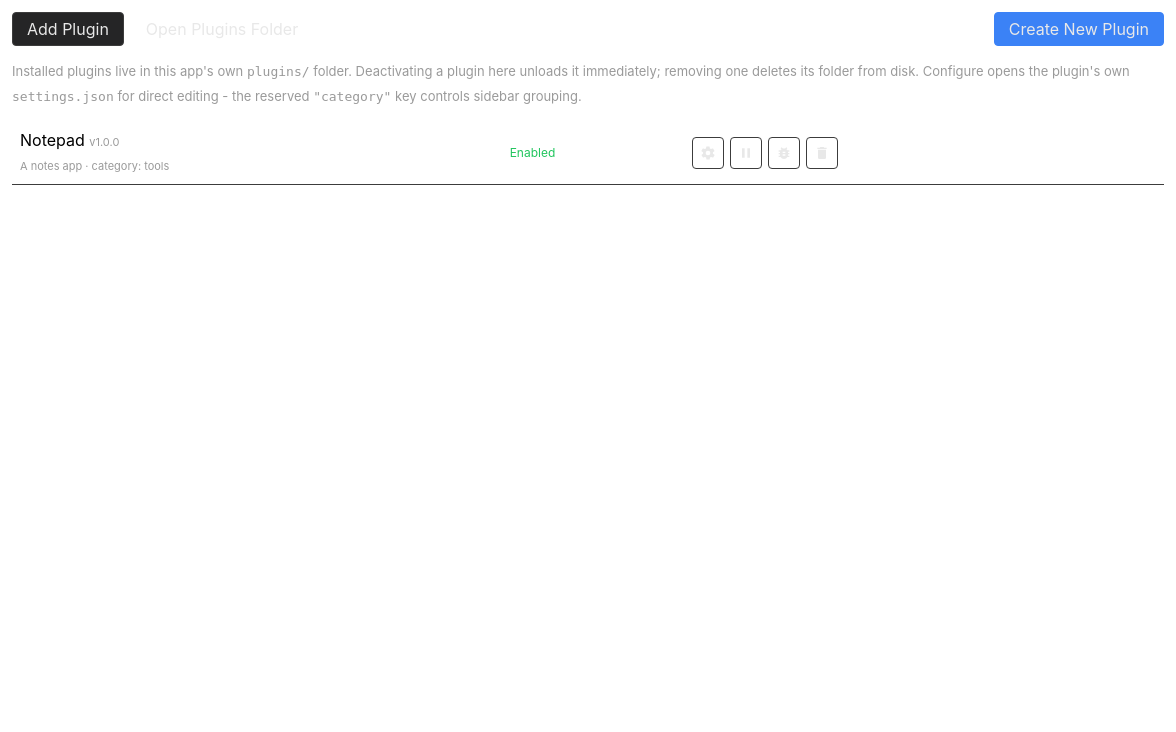
Scenario: SettingsPlugins › saves settings.json and shows a success toast
Expected: the text "Enabled" is shown, [502, 122, 684, 184]
Click the button named "Configure".
click(708, 153)  # box [692, 137, 724, 169]
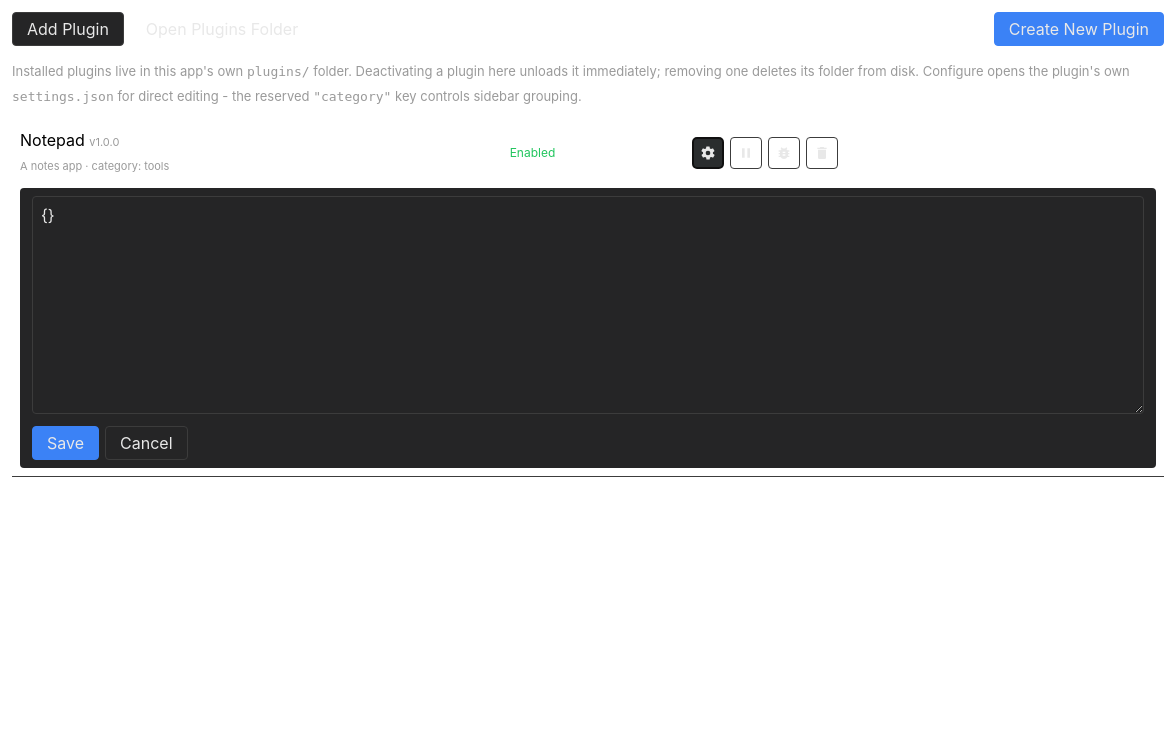
Now the text box showing "{}" is shown, box [32, 196, 1144, 414]
Click the button "Save".
click(66, 443)  # box [32, 426, 99, 460]
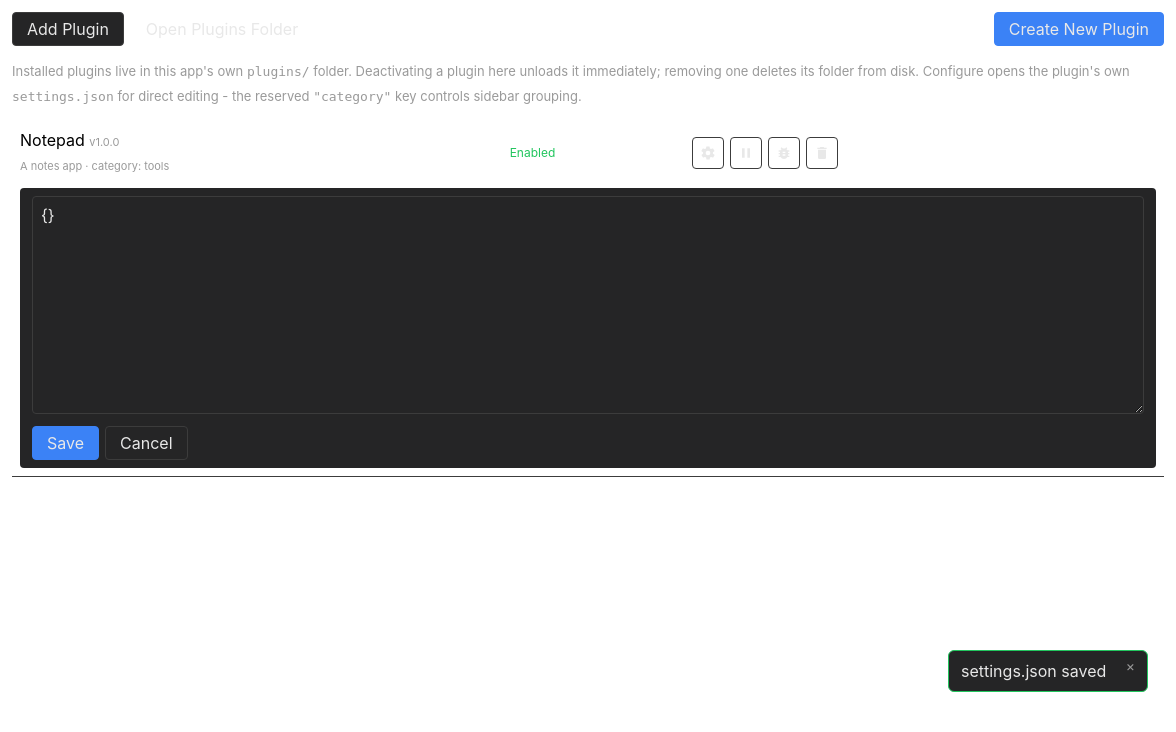
Now the text "settings.json saved" is shown, box [961, 659, 1118, 683]
